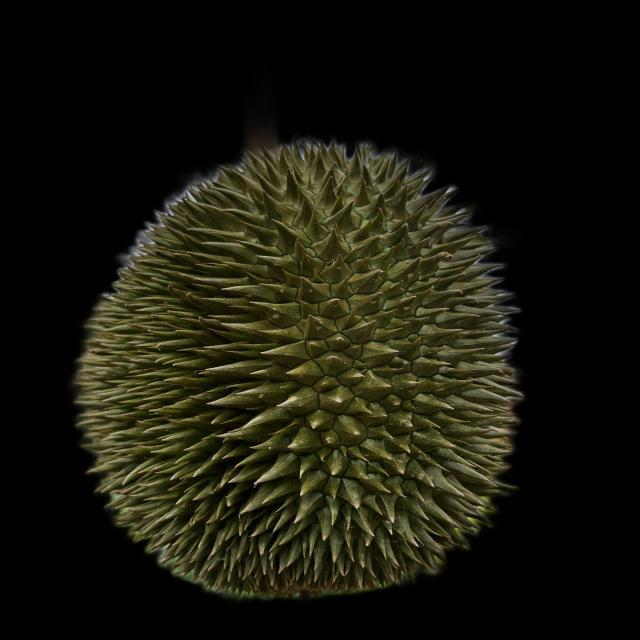immature: (70, 142, 520, 596)
